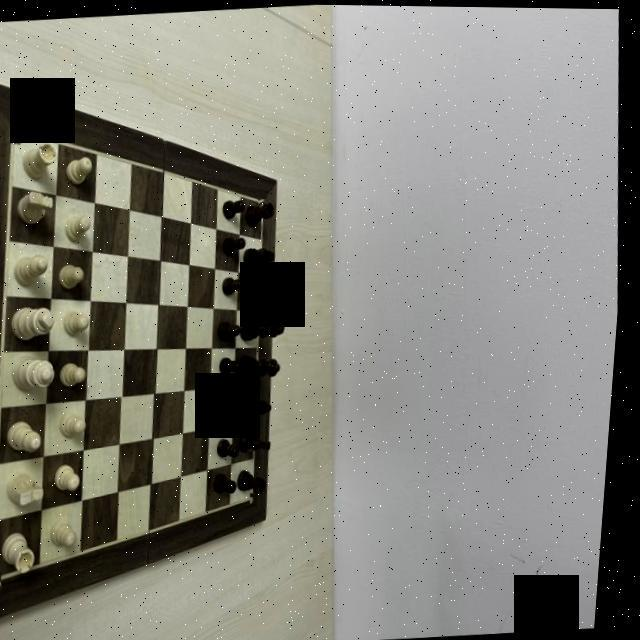chess-table-corners: (4, 124, 26, 144), (0, 571, 10, 591), (255, 492, 265, 502), (260, 195, 270, 202)
